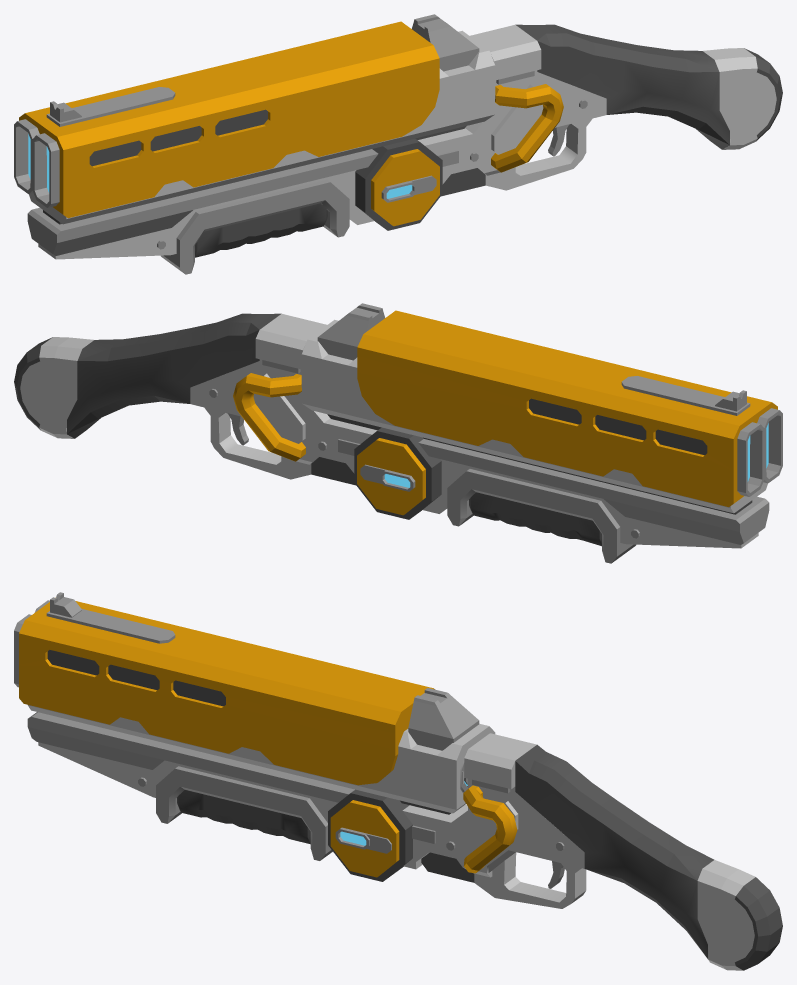
3 views of the same model, one above another, from view 1: azimuth 30°, elevation 25°; view 2: azimuth 150°, elevation 25°; view 3: azimuth 330°, elevation 25° (orthographic).
Parts seen in each view (by area): view 1: SM_SG02_Barrel, SM_SG02; view 2: SM_SG02_Barrel, SM_SG02; view 3: SM_SG02_Barrel, SM_SG02.
Part boxes in pixels (x1,y1,x2,y2): SM_SG02_Barrel: [14, 14, 495, 274]; SM_SG02: [355, 24, 782, 230]; SM_SG02_Barrel: [301, 303, 782, 563]; SM_SG02: [14, 313, 441, 519]; SM_SG02_Barrel: [14, 592, 495, 860]; SM_SG02: [328, 733, 782, 970].
Size of the model in its own units: 50.84 by 13.34 by 6.7.
